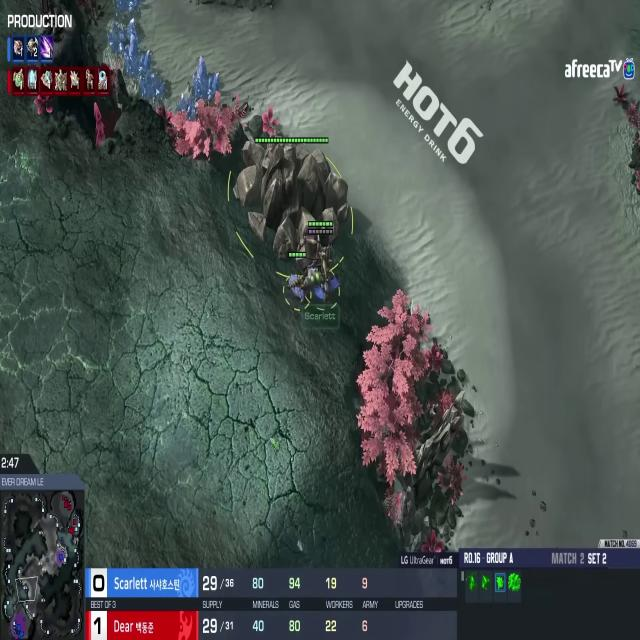drone: (285, 264, 308, 304)
queen: (297, 239, 341, 310)
